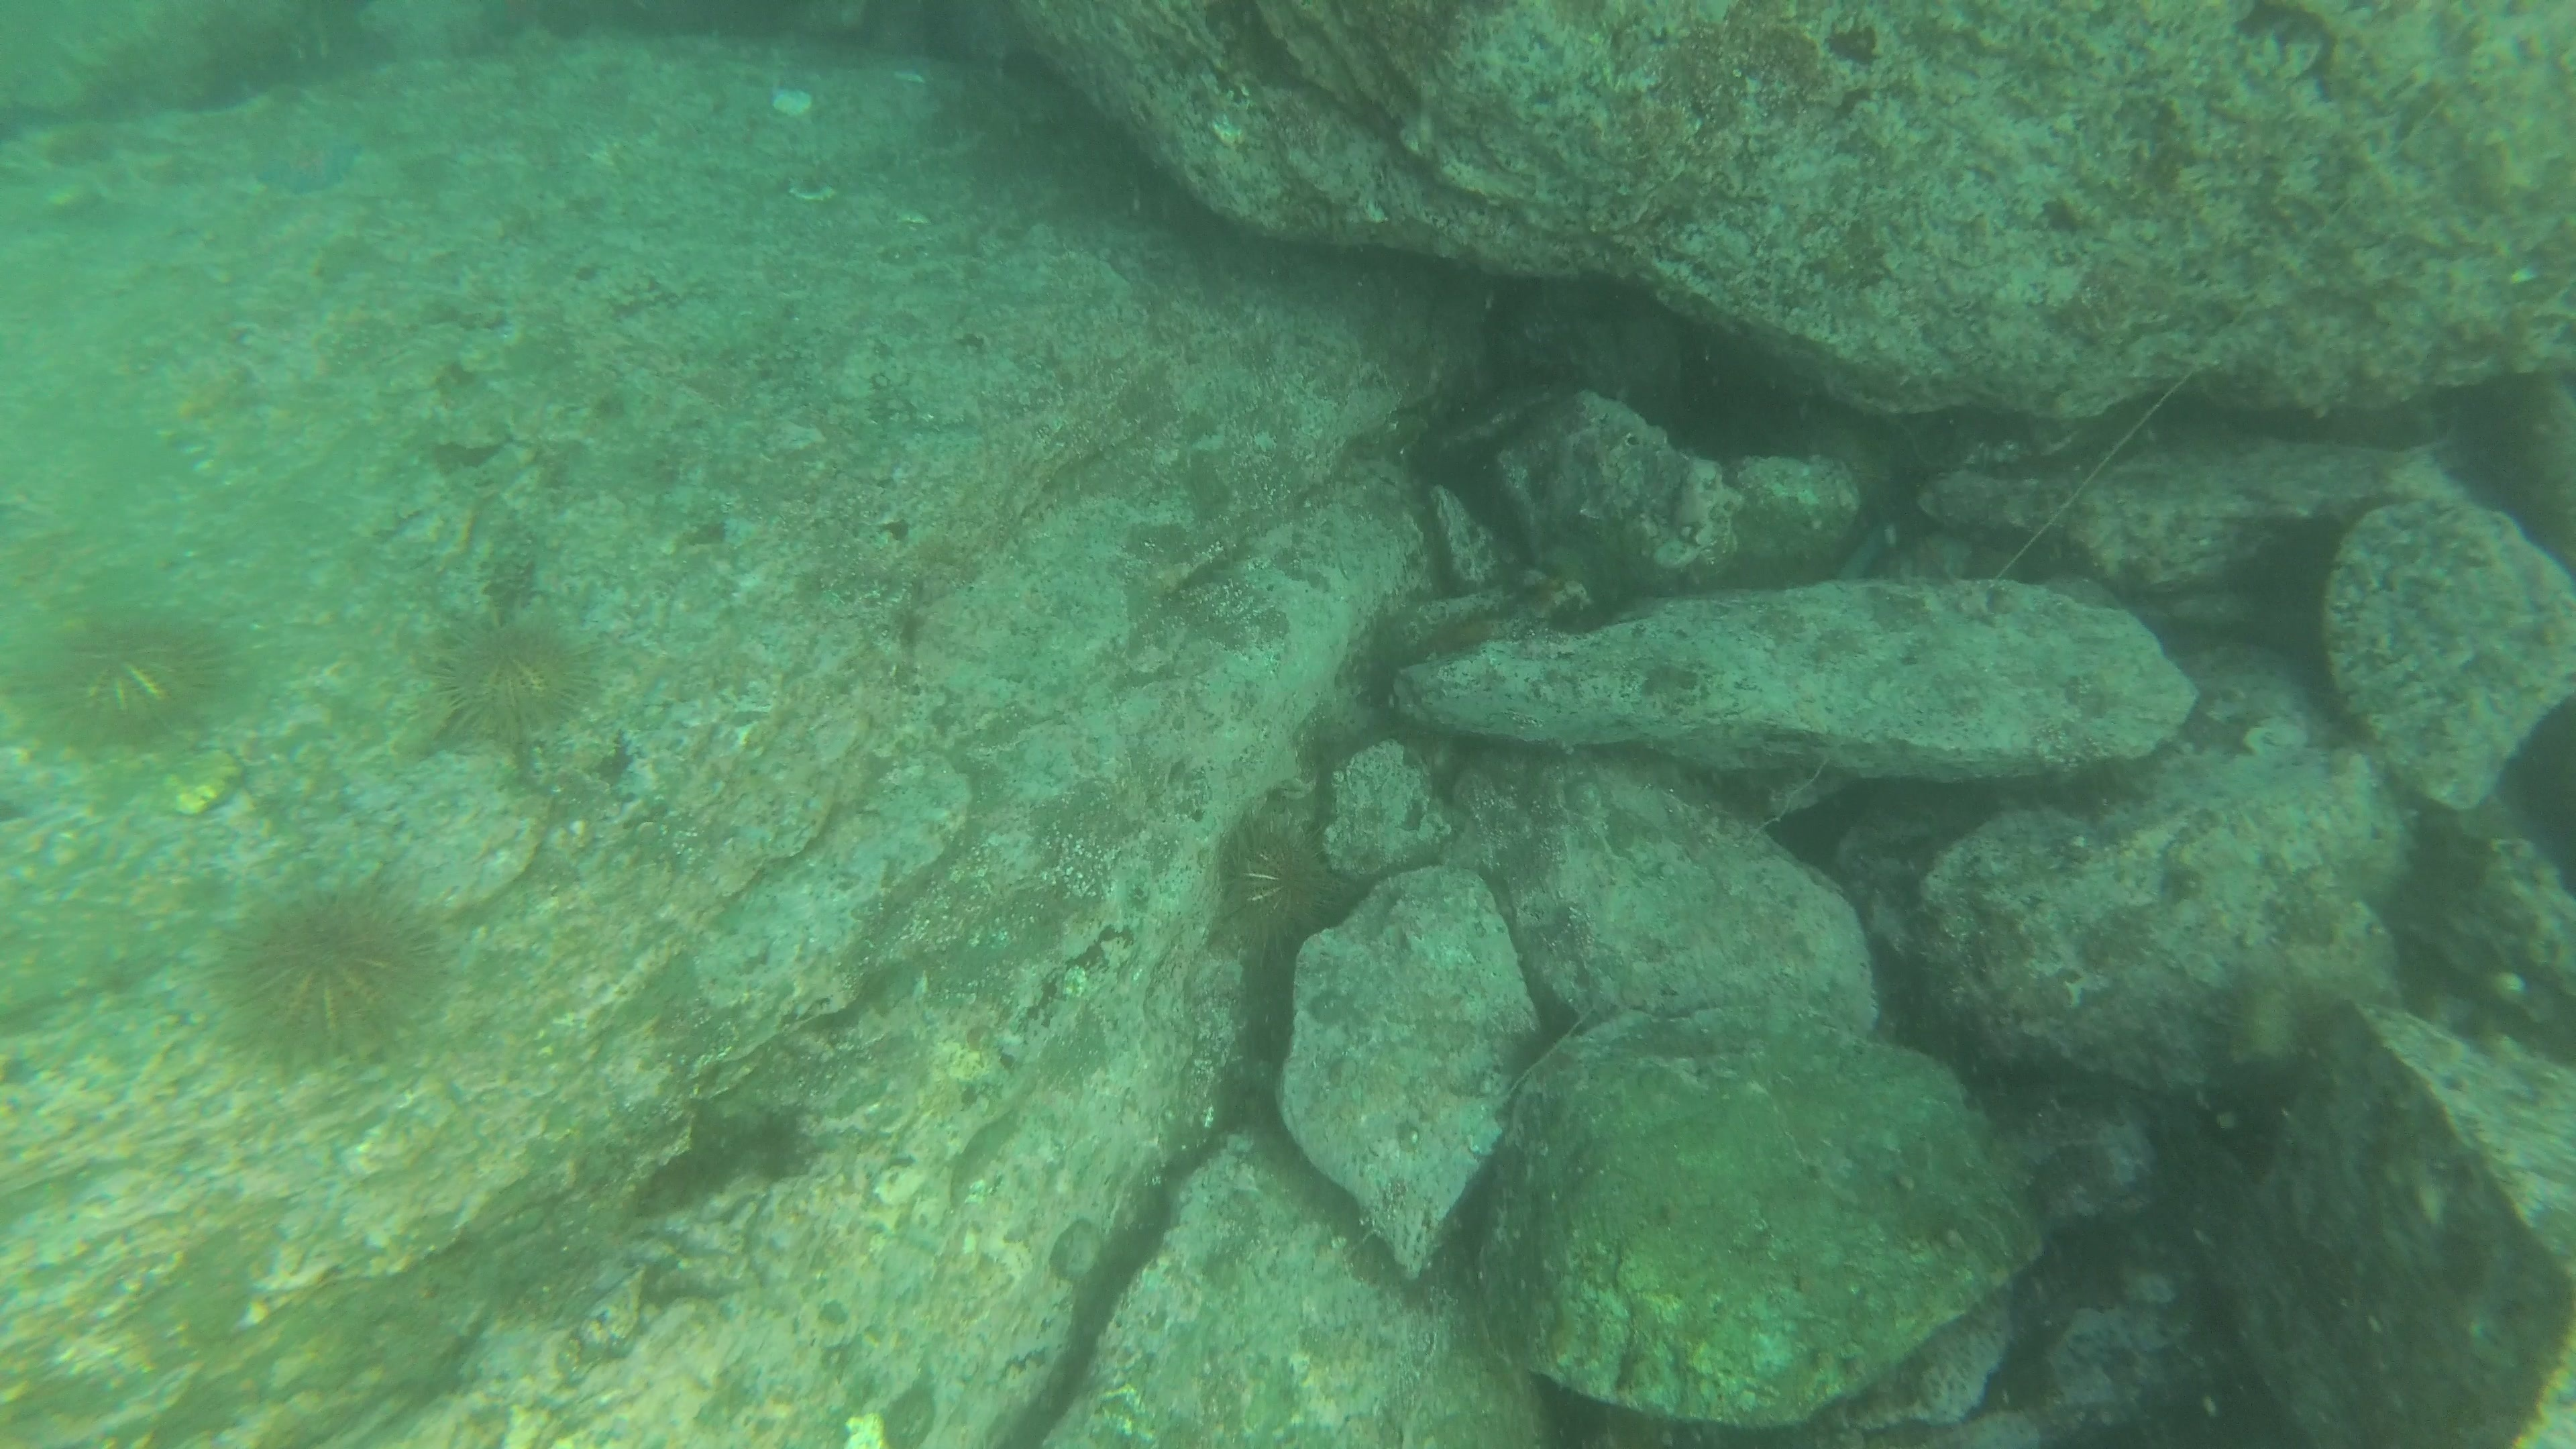echinus: (209, 878, 446, 1067), (32, 600, 235, 755), (423, 605, 602, 750), (1207, 807, 1353, 961), (2204, 955, 2335, 1088)
starfish: (242, 111, 372, 203)
